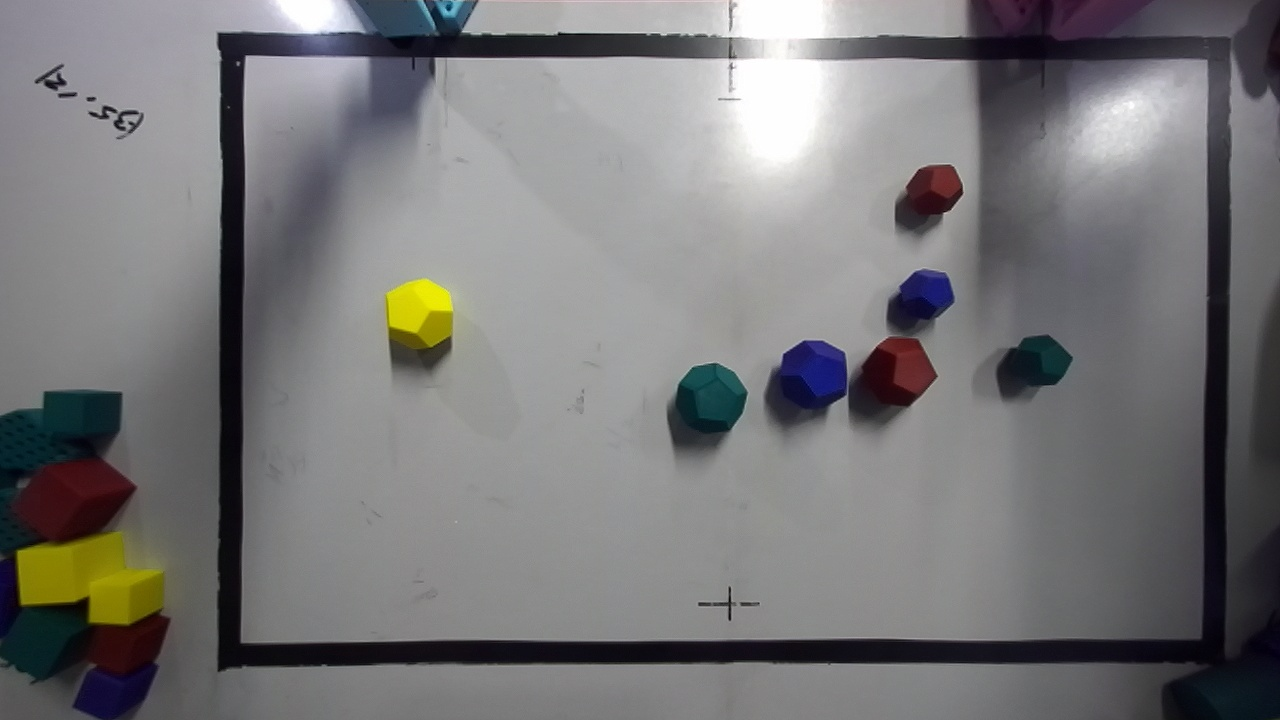dodecahedron: (862, 337, 936, 406), (676, 363, 747, 432), (385, 279, 452, 348), (779, 340, 846, 408), (1006, 335, 1072, 385), (906, 164, 962, 214), (899, 269, 954, 318)
